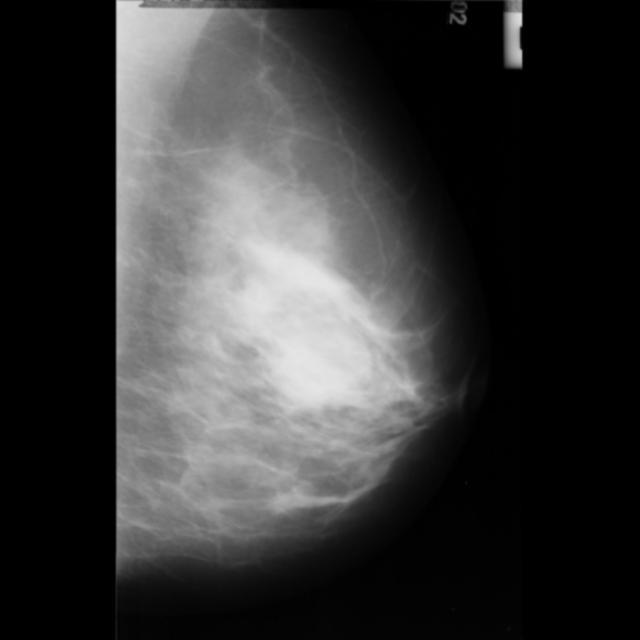CIRC: (259, 303, 376, 419)
